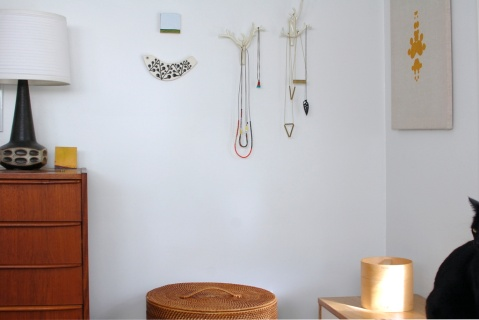Cat: (423, 195, 478, 319)
